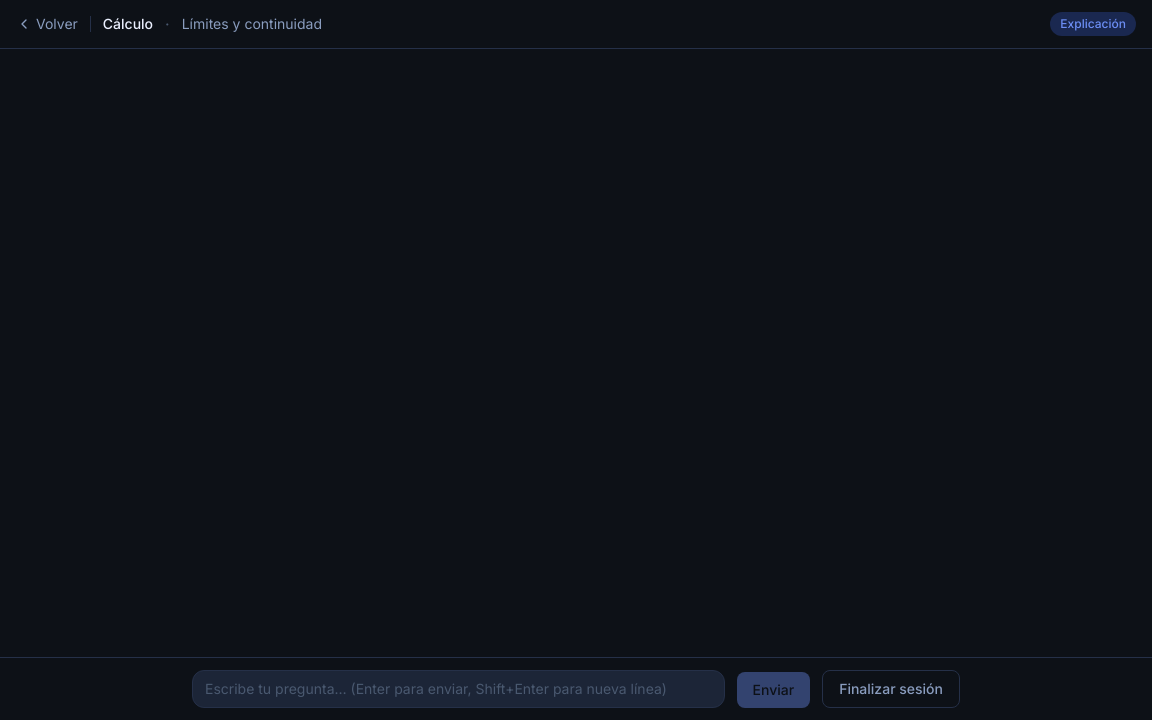
Scenario: ChatSession › shows assistant response after streaming completes
Type "Explícame los límites" into the text box at (458, 689), box [192, 670, 725, 708]
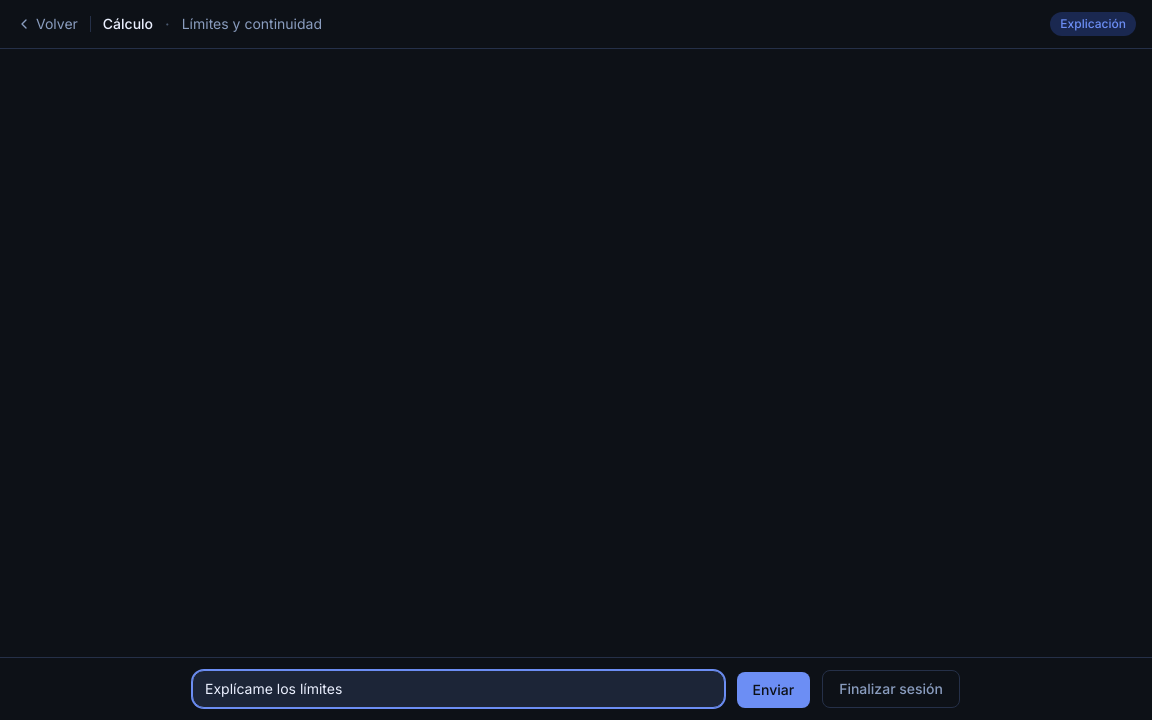
Click the button "Enviar" at (773, 690), box [737, 672, 810, 708]
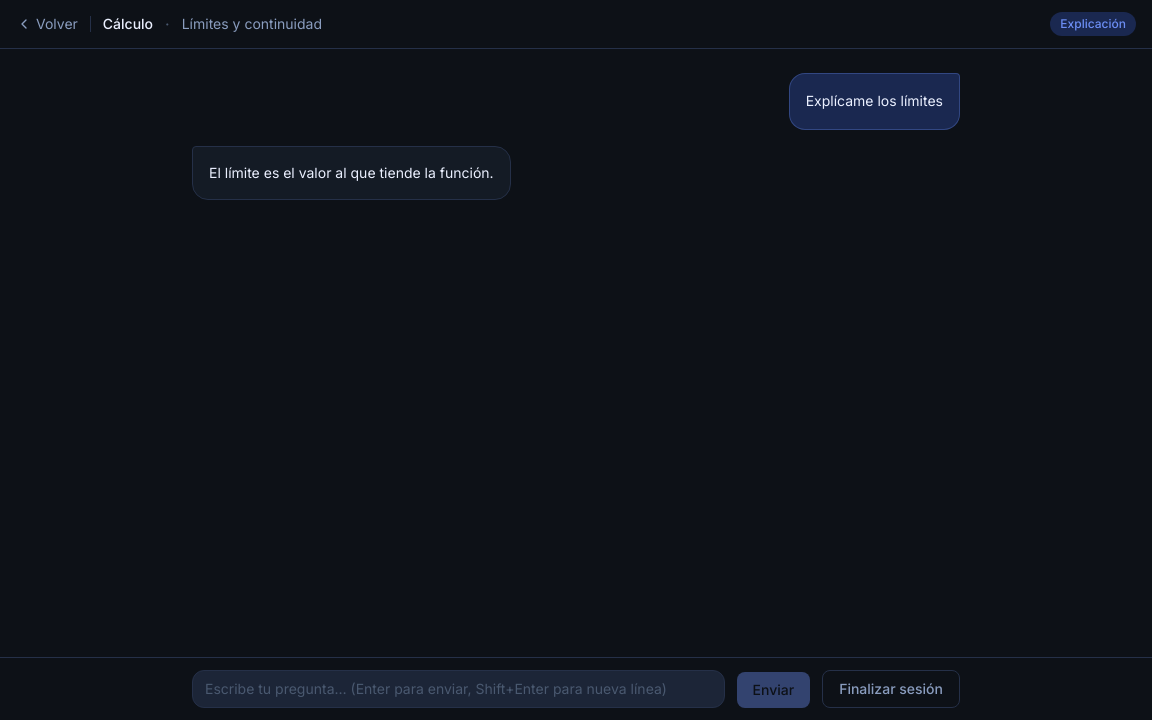
Expected: the text "El límite es el valor al que tiende la función." is shown, [209, 163, 494, 183]
